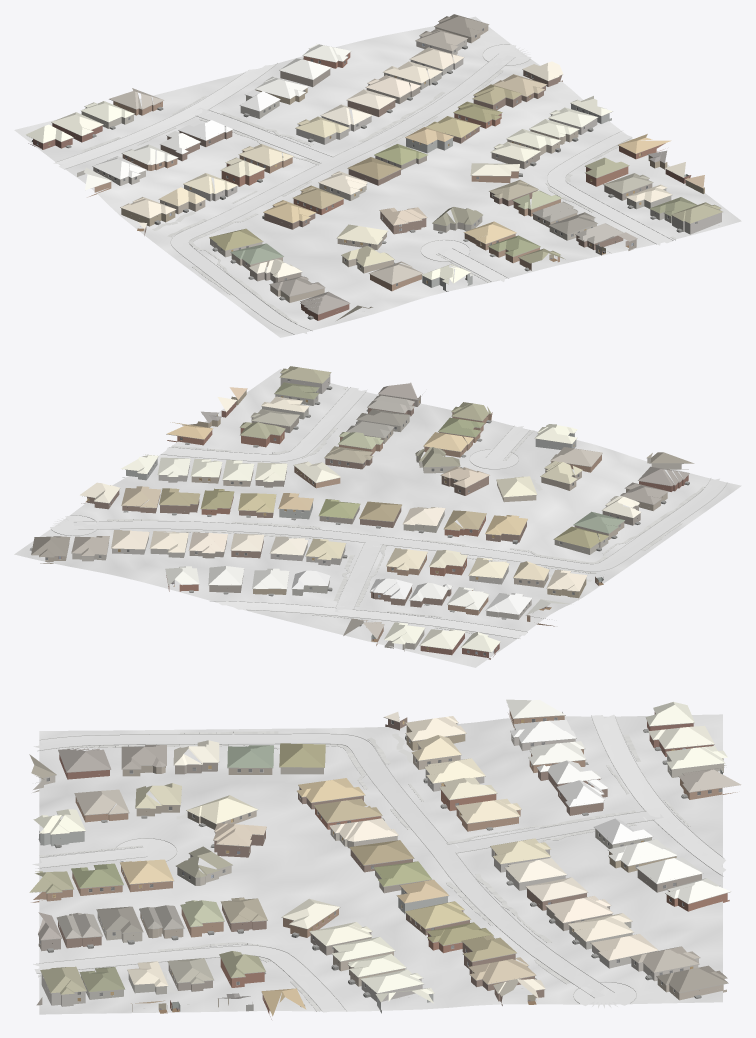
The picture shows the model from 3 angles, top to bottom: view 1: azimuth 30°, elevation 25°; view 2: azimuth 150°, elevation 25°; view 3: azimuth 270°, elevation 25°; orthographic projection. The views are drawn at different scales.
Visible parts, largest first — view 1: ground, roof, concrete, wall, detail, wall_stucco, walk, curb, wall_stone, glass; view 2: ground, roof, concrete, wall, wall_stucco, detail, curb, walk, wall_stone; view 3: ground, roof, concrete, wall, wall_stucco, detail, walk, curb, wall_stone, glass.
Part boxes in pixels (<box>): ground: <box>14,16,741,337</box>; roof: <box>26,14,722,320</box>; concrete: <box>53,44,672,334</box>; wall: <box>28,52,704,320</box>; detail: <box>31,21,722,319</box>; wall_stucco: <box>81,22,671,291</box>; walk: <box>81,70,676,323</box>; curb: <box>55,44,675,334</box>; wall_stone: <box>184,59,721,234</box>; glass: <box>32,28,696,285</box>; ground: <box>14,369,741,667</box>; roof: <box>31,366,694,652</box>; concrete: <box>50,387,726,639</box>; wall: <box>81,390,688,659</box>; wall_stucco: <box>40,390,688,651</box>; detail: <box>30,372,689,655</box>; curb: <box>51,387,727,638</box>; walk: <box>107,386,704,633</box>; wall_stone: <box>112,373,508,584</box>; ground: <box>39,714,722,1014</box>; roof: <box>29,699,741,1016</box>; concrete: <box>32,714,725,1012</box>; wall: <box>31,710,737,1019</box>; wall_stucco: <box>32,728,726,1013</box>; detail: <box>32,709,731,1009</box>; walk: <box>38,731,690,1011</box>; curb: <box>36,715,723,1011</box>; wall_stone: <box>41,770,654,1006</box>; glass: <box>46,717,721,995</box>.
Bounding box in the file's own units: 272 × 17.16 × 266.
